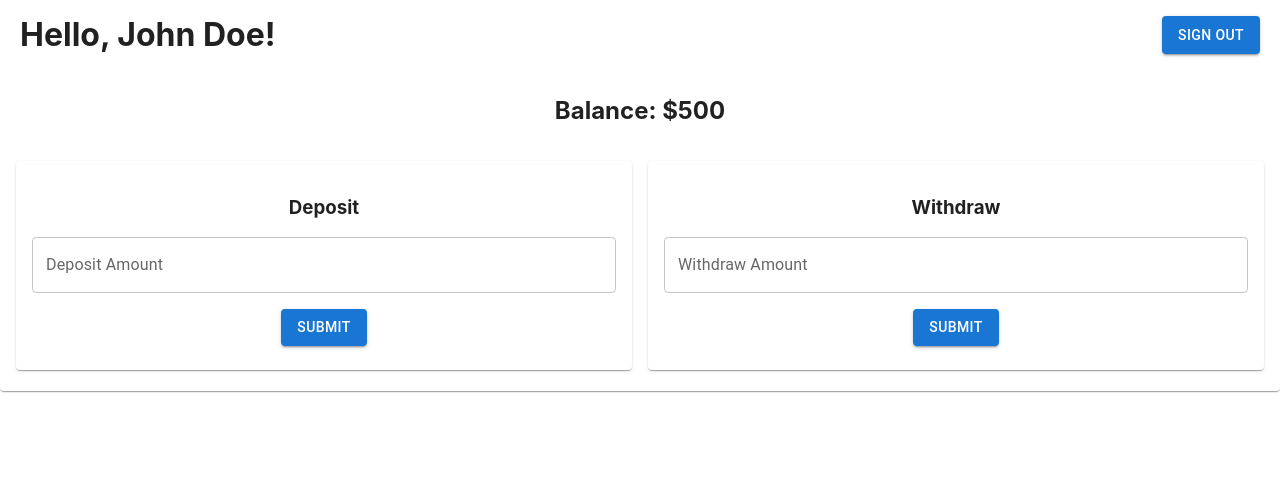
AccountDashboard Component › shows a rejected withdrawal without changing the account balance
The image size is (1280, 478).
Type "205" into the number field labelled "Withdraw Amount" at (956, 265), box [664, 237, 1248, 293]
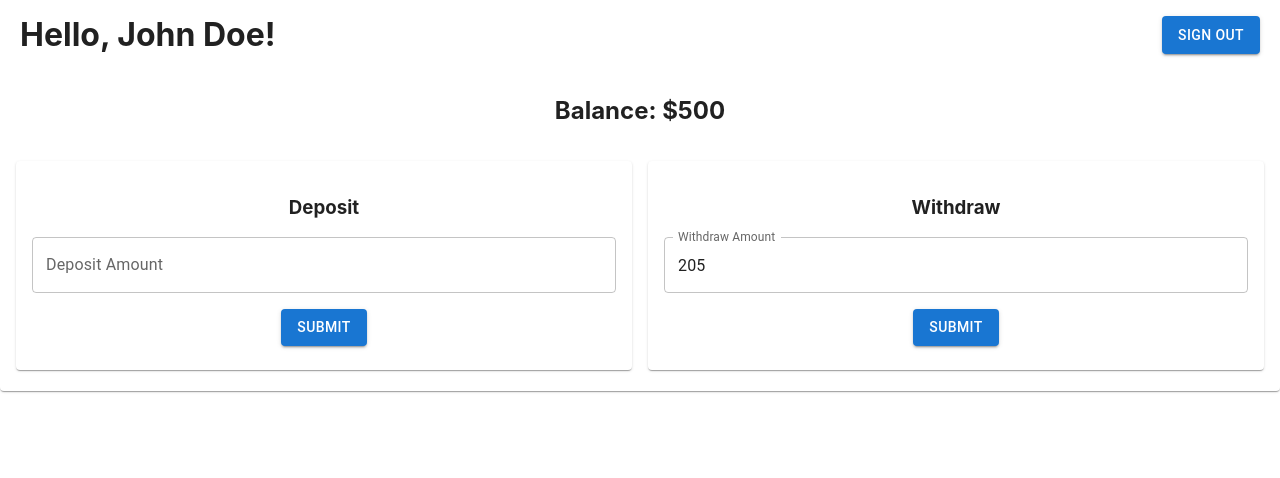
Click the button "Submit" below "Withdraw Amount" at (956, 327), box [913, 309, 999, 346]
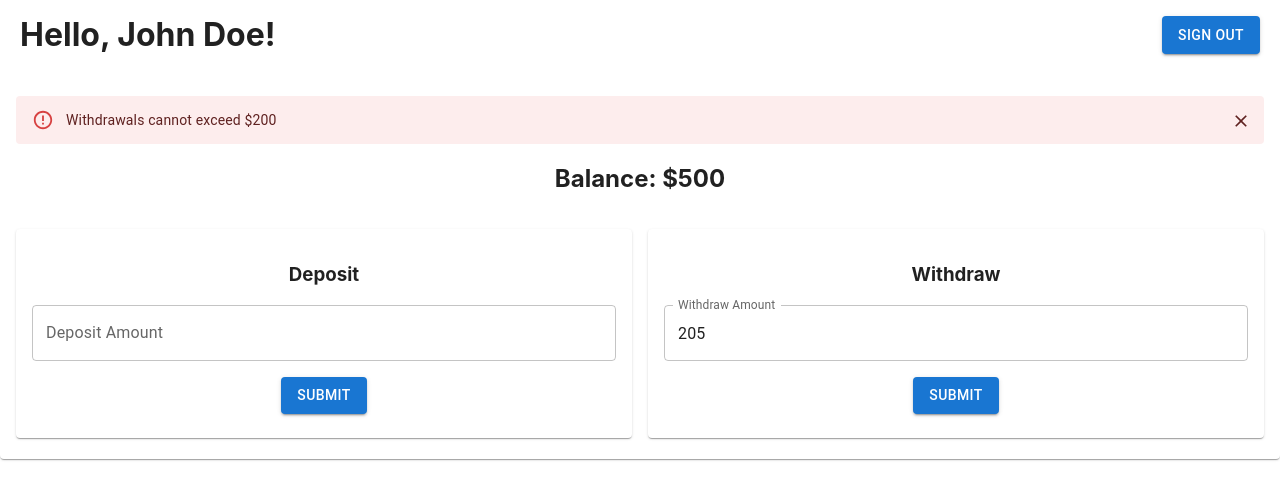
Expected: the heading "Balance: $500" is shown, [555, 164, 725, 193]
Now the text "Withdrawals cannot exceed $200" is shown, box [66, 112, 276, 128]
